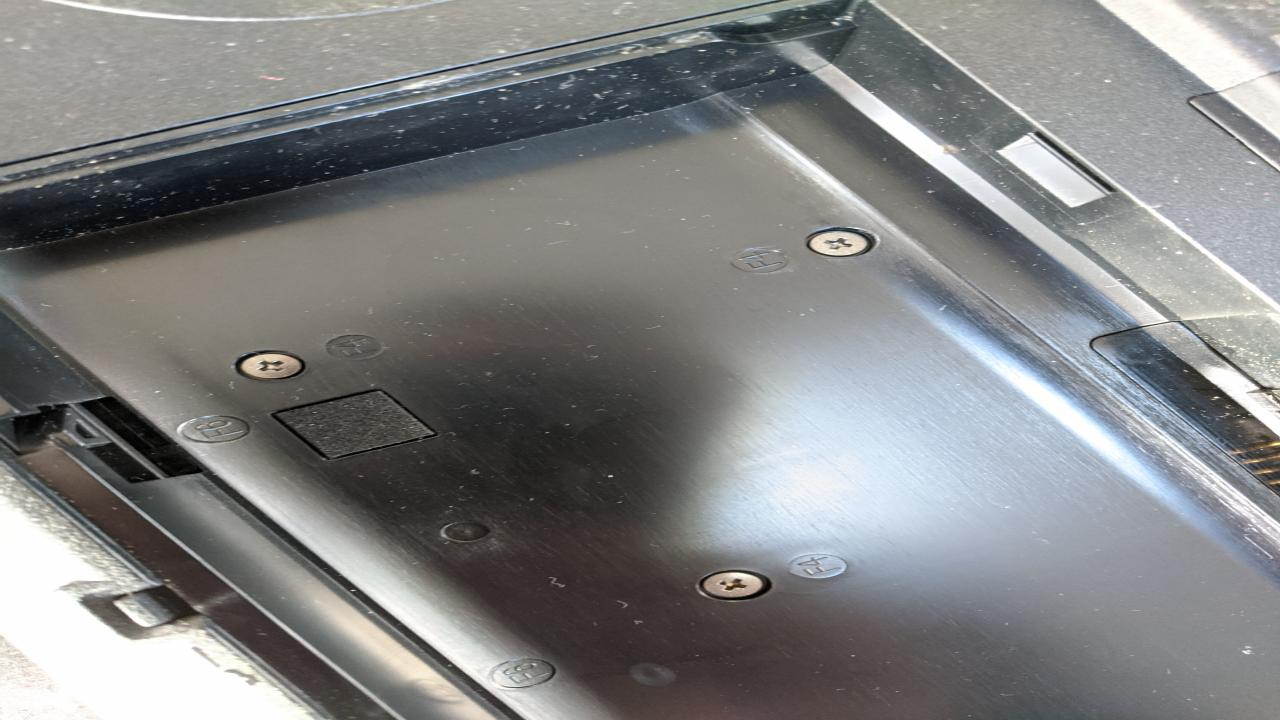CRS: (226, 345, 314, 385), (796, 224, 880, 262), (688, 565, 776, 601)
